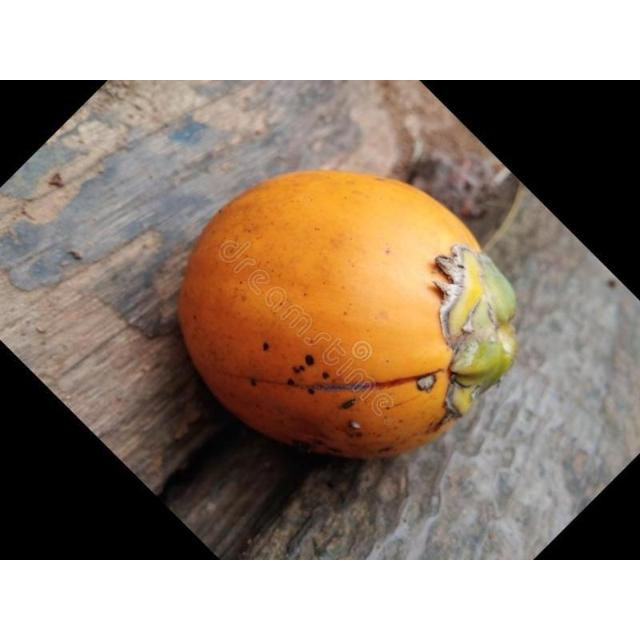good: (179, 170, 516, 458)
